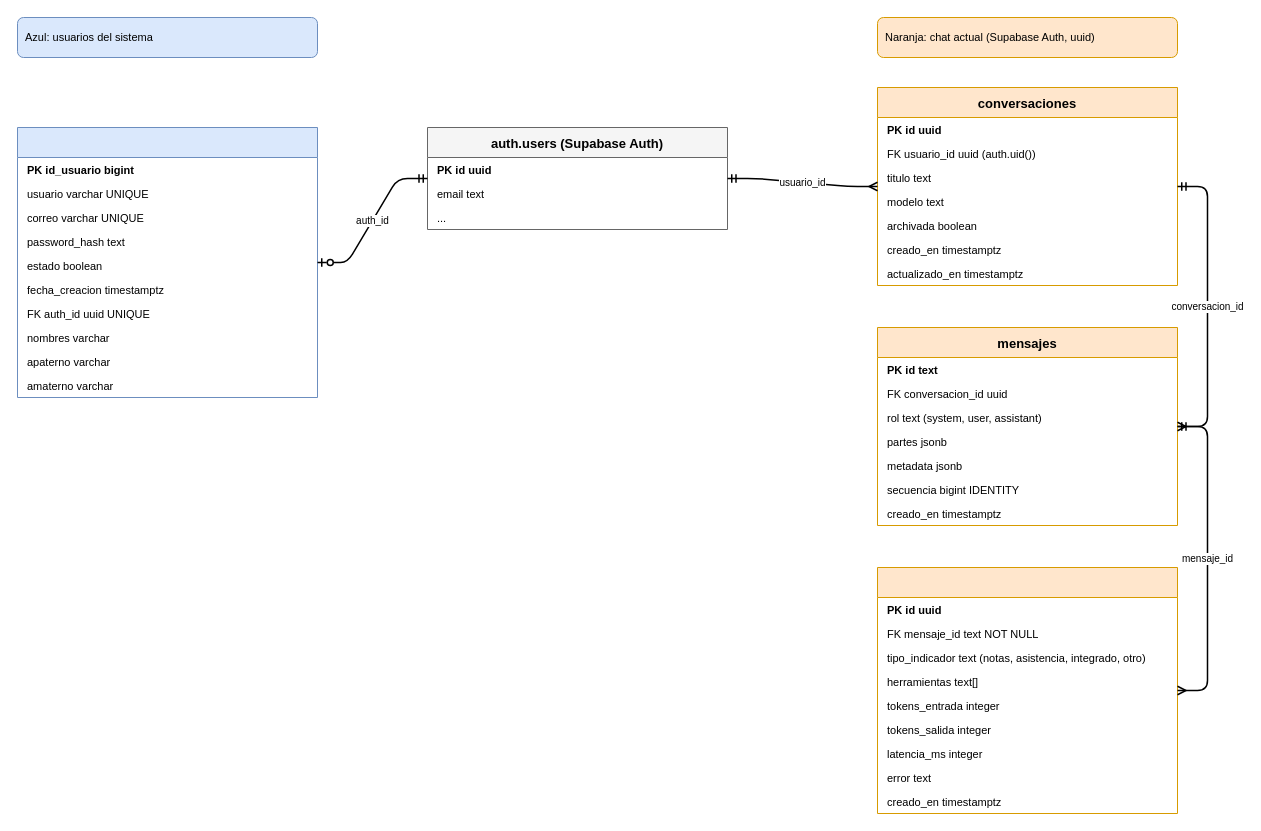
The diagram is 1261 pixels wide and 831 high, and some of its shapes have lost their labels. The shapes that lost their labels are listed below. From the top down, each one's box as (x1, y1, x2, y2) in pixels, then its label:
(16, 126, 318, 398): mg_usuario
(876, 566, 1178, 814): metricas_consulta
